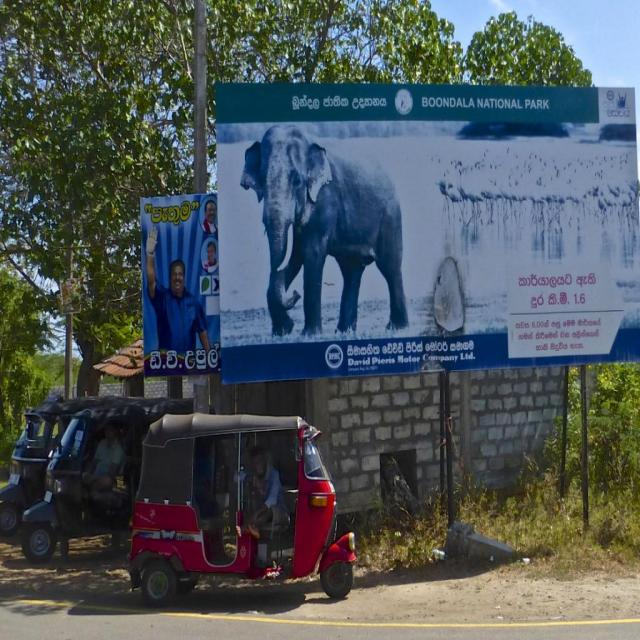elephant: (241, 123, 409, 335)
